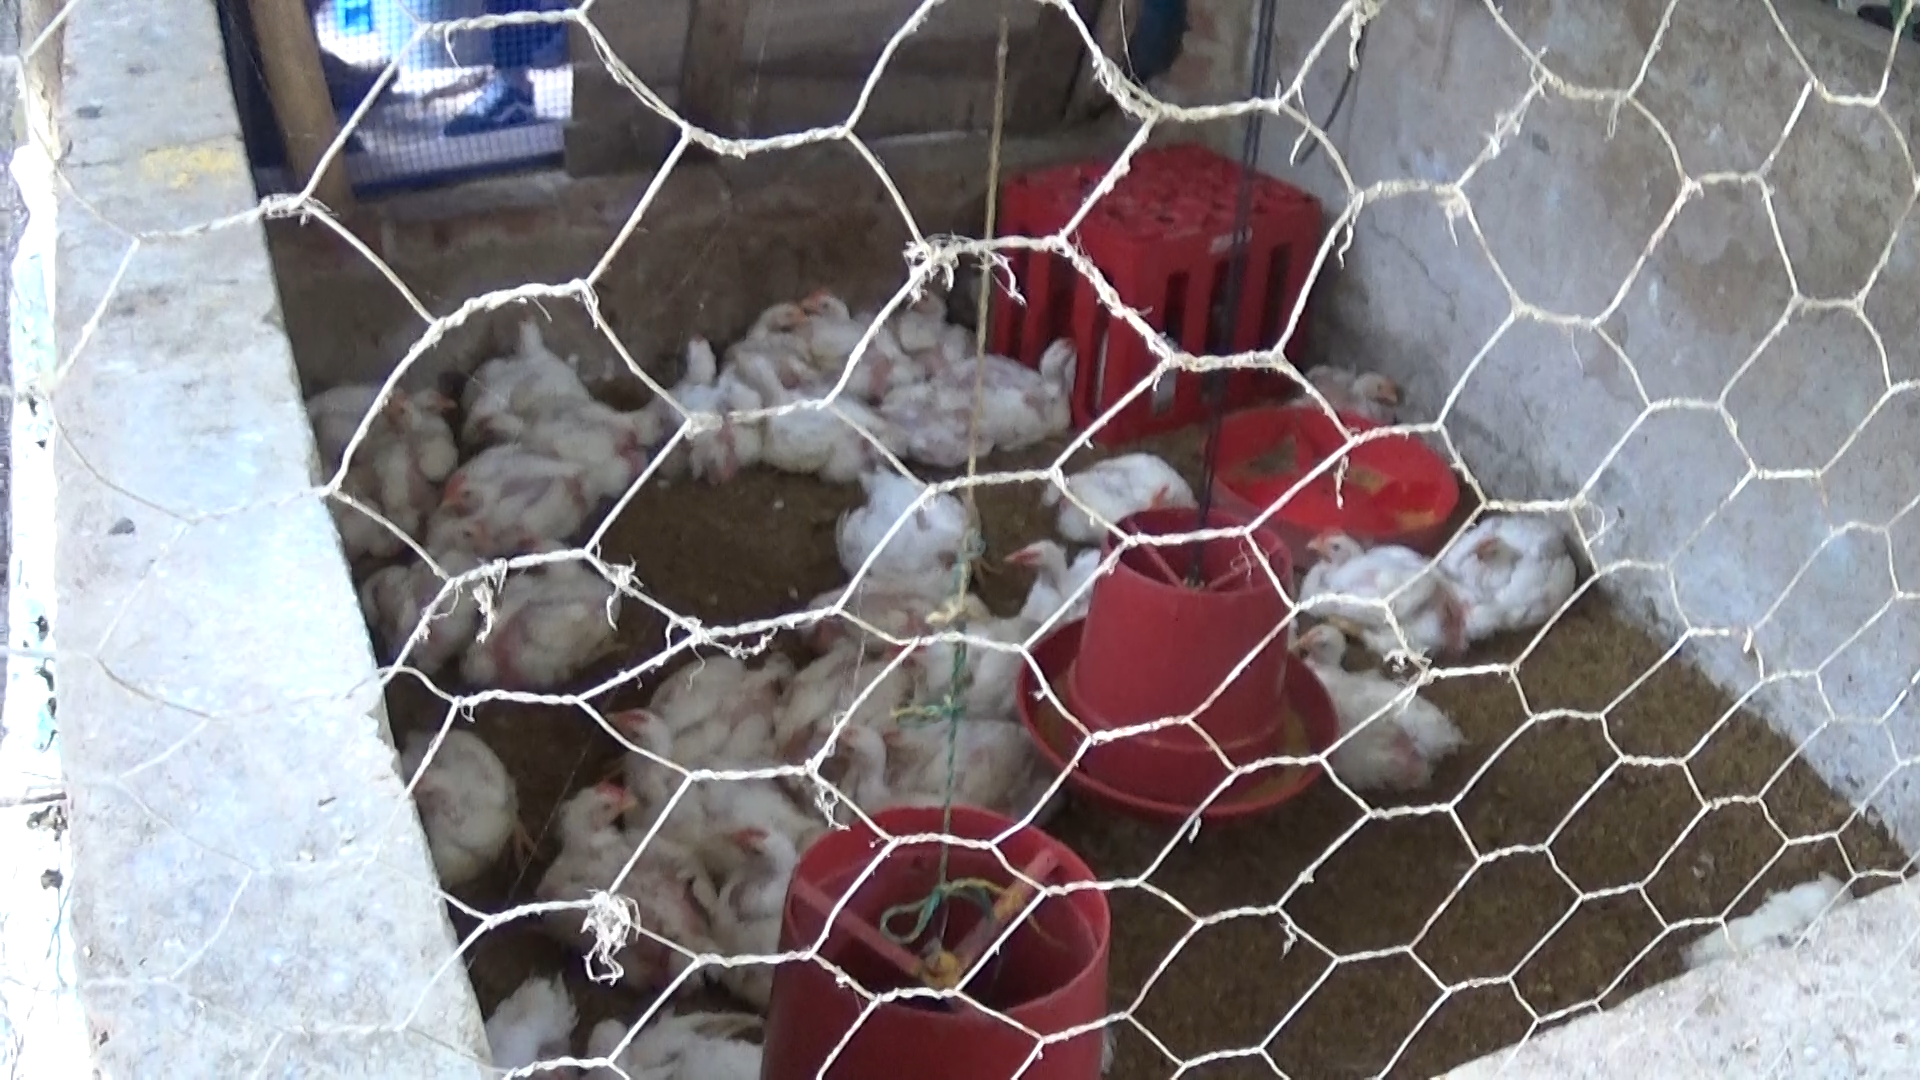Pollos: (526, 771, 716, 963), (1305, 617, 1458, 794), (596, 683, 779, 829), (808, 702, 1048, 812), (477, 376, 667, 513), (1296, 516, 1477, 649), (698, 808, 829, 984), (837, 444, 986, 599), (464, 541, 626, 682), (1440, 504, 1597, 637), (385, 501, 500, 683), (928, 334, 1087, 442), (446, 313, 603, 417), (778, 618, 909, 736), (330, 390, 423, 549), (314, 371, 460, 469), (673, 328, 753, 477), (1035, 452, 1205, 522), (433, 447, 574, 522), (997, 529, 1105, 622), (767, 401, 902, 476), (787, 287, 895, 377), (741, 287, 811, 382)
